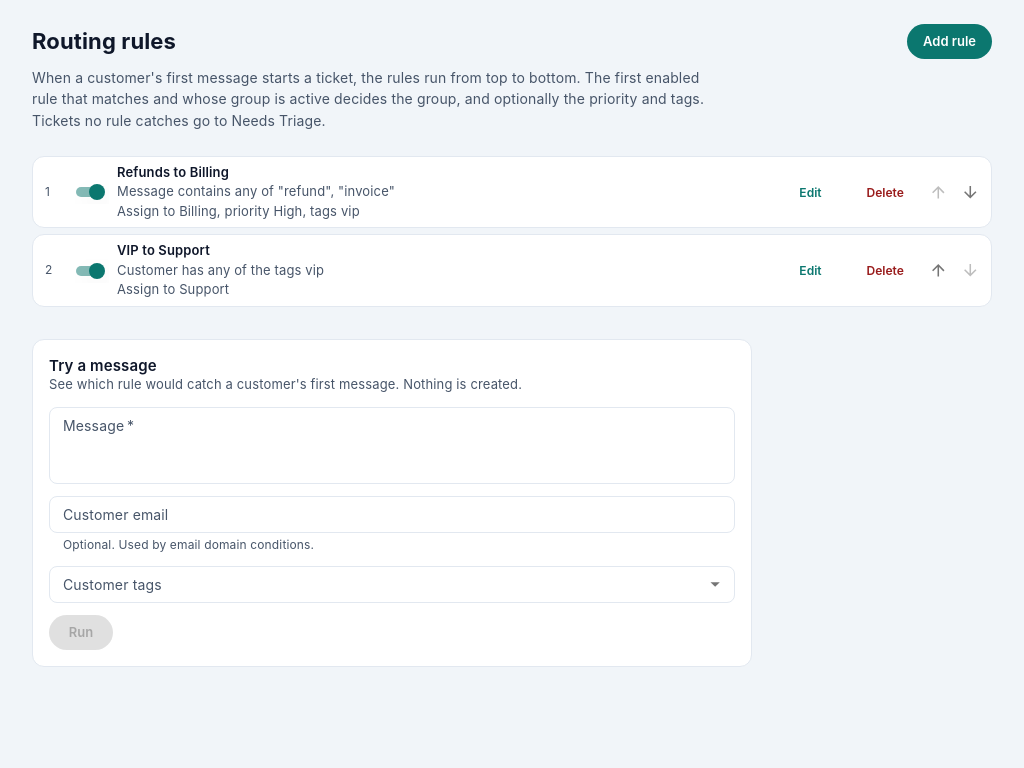
Test: RoutingRulesPage › runs a dry run with the sample message, email and tags
The image size is (1024, 768).
Type "I want a refund" into the text box labelled "Message *" at (392, 445), box x1=63 y1=415 x2=721 y2=475
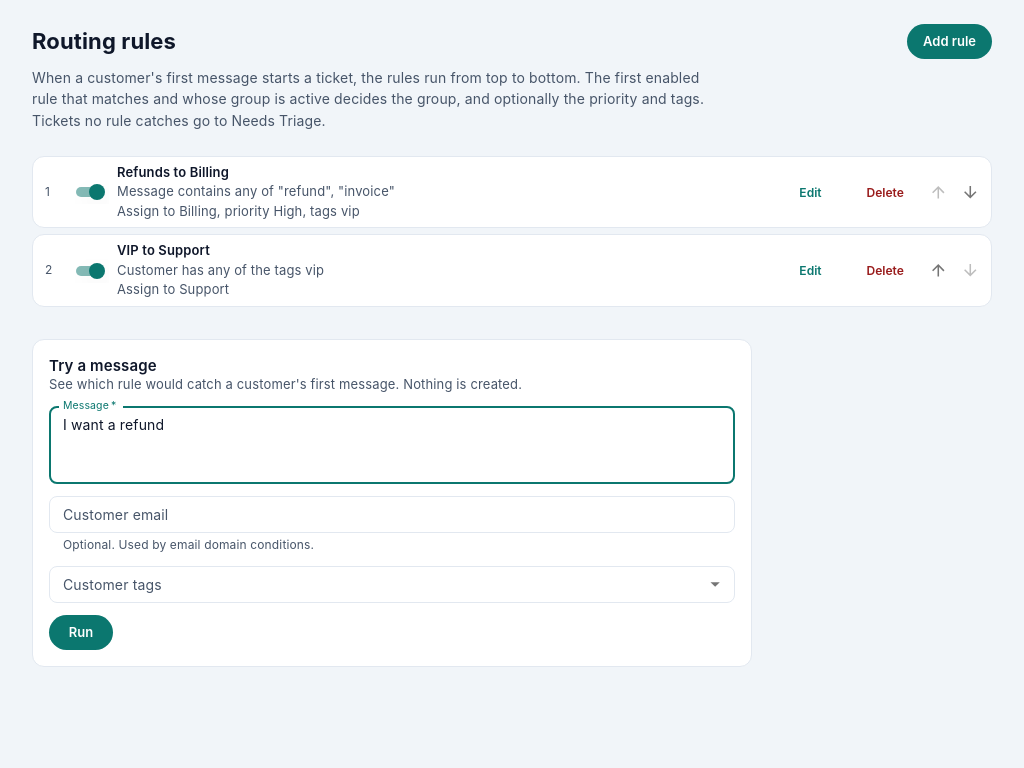
Type "a@b.com" into the field labelled "Customer email" at (392, 514), box x1=49 y1=496 x2=735 y2=533
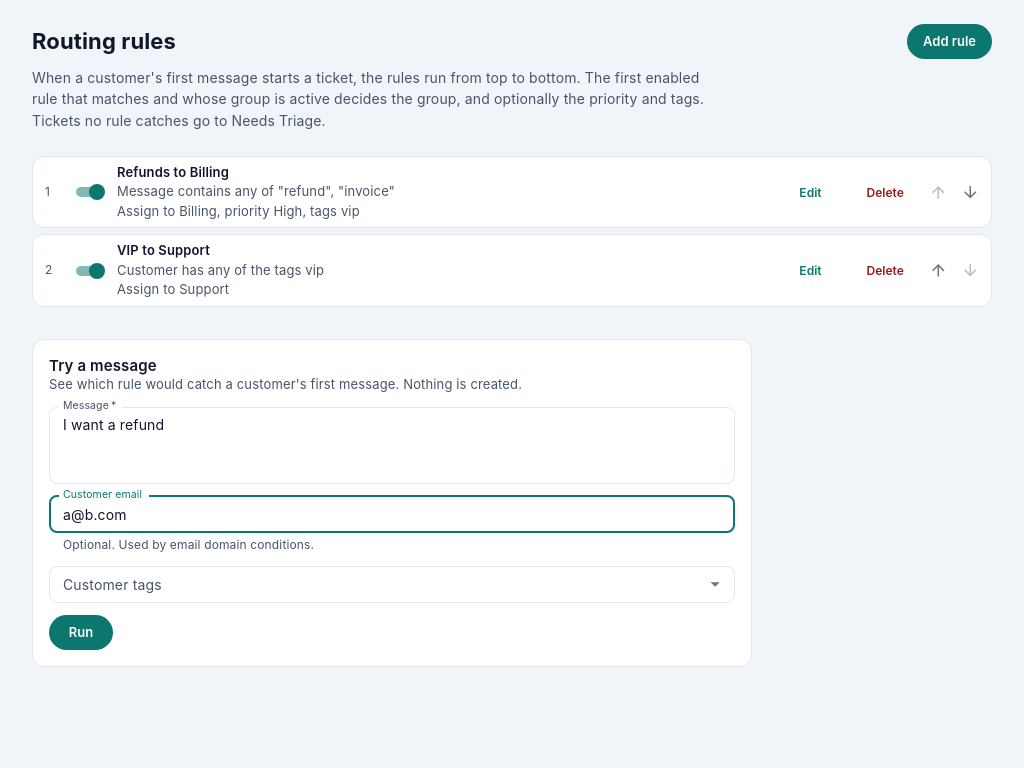
Click the button "Run" at (81, 632), box x1=49 y1=615 x2=113 y2=650
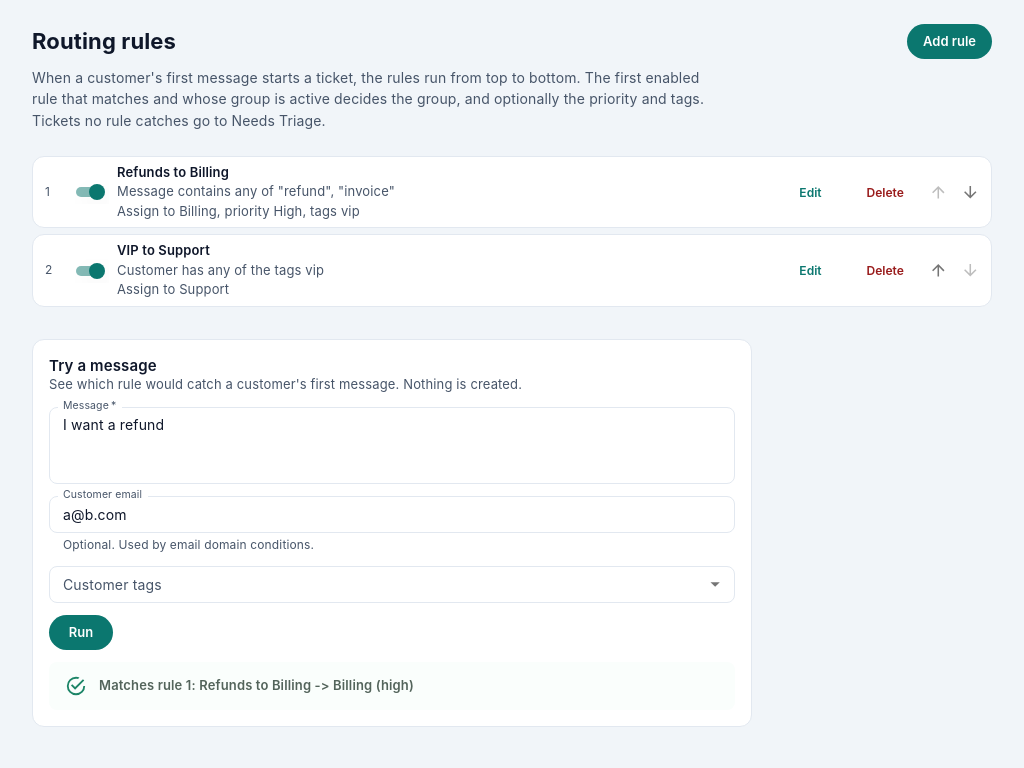
Result: the element named "Test result" reads "Matches rule 1: Refunds to Billing -> Billing (high)" at x1=99 y1=677 x2=414 y2=693
